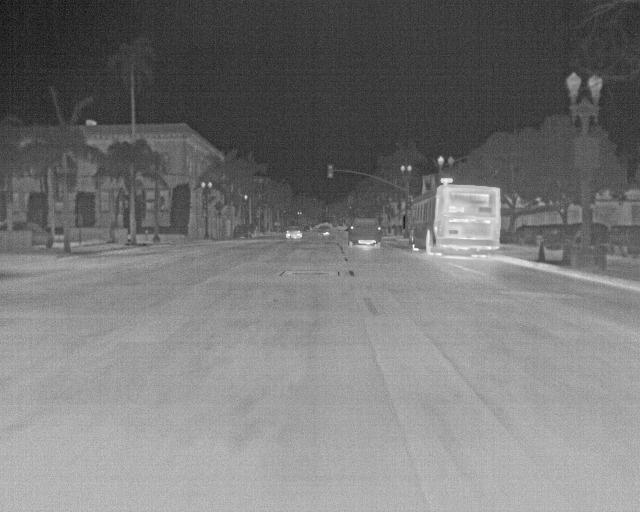car: (346, 213, 382, 249), (31, 219, 51, 250), (283, 223, 304, 241), (52, 224, 65, 243), (317, 226, 332, 235)
